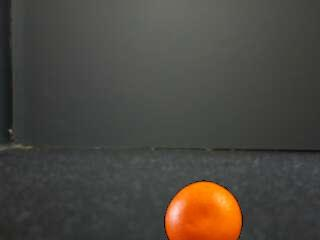Orange: (164, 181, 243, 240)
